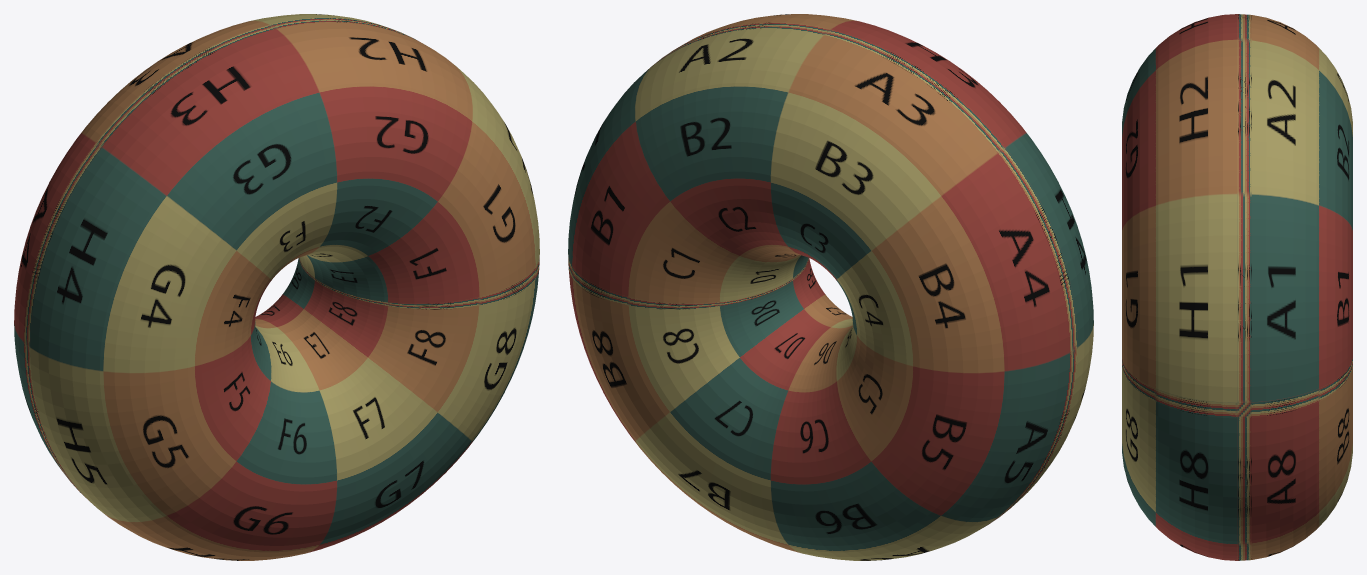
File: texture_torus_R0_r6.glb
The picture shows the model from 3 angles, left to right: view 1: azimuth 30°, elevation 25°; view 2: azimuth 150°, elevation 25°; view 3: azimuth 270°, elevation 25°; orthographic projection. The views are drawn at different scales.
Visible parts, largest first — view 1: world; view 2: world; view 3: world.
Boxes of the visible parts, <box> form: world: <box>14,14,539,560</box>; world: <box>568,14,1093,560</box>; world: <box>1122,14,1352,560</box>.
Bounding box in the file's own units: 17.33 × 17.33 × 7.32.
1 material, 1 textured.
